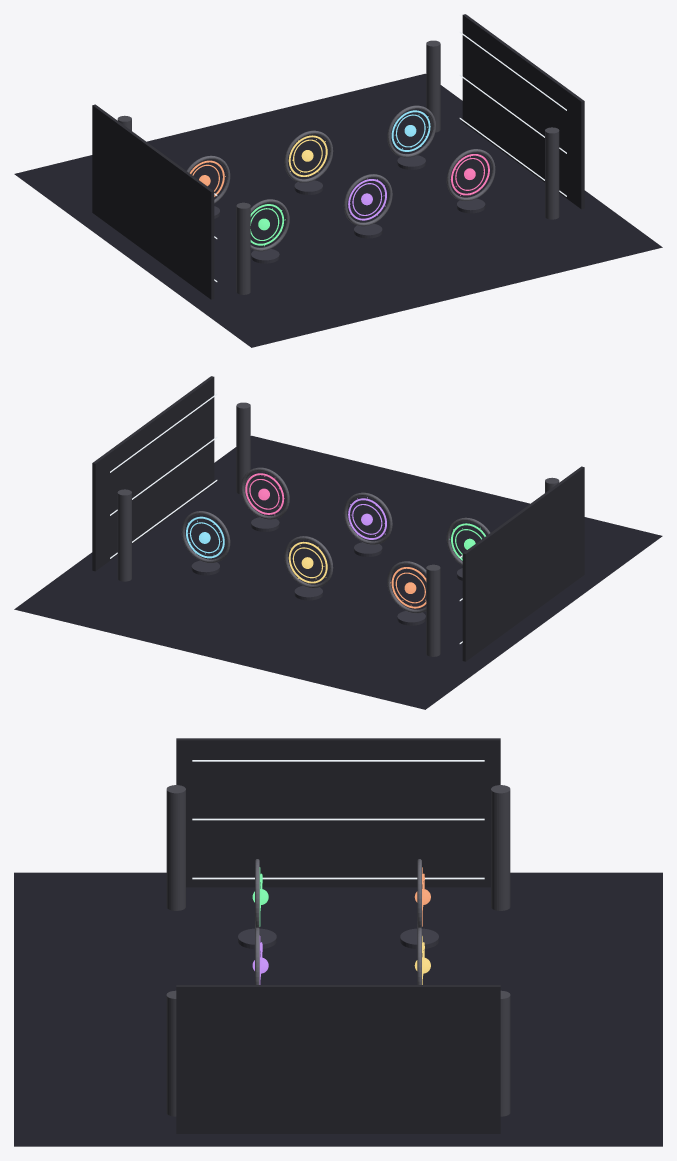
Rendered from ProjectsSpacePortals.glb.
3 renders of one model, top to bottom at view 1: azimuth 30°, elevation 25°; view 2: azimuth 150°, elevation 25°; view 3: azimuth 270°, elevation 25°, orthographic. The views are drawn at different scales.
Visible parts, largest first — view 1: Portal_GalleryFloor, Portal_Wall_Left, Portal_Wall_Right, Portal_Column_4, Portal_Column_3, Portal_Column_2, Portal_Taverne_Frame, Portal_Stellar_Frame, Portal_AssistantIA_Frame, Portal_Minecraft_Frame; view 2: Portal_GalleryFloor, Portal_Wall_Left, Portal_Wall_Right, Portal_Column_2, Portal_Column_1, Portal_Column_4, Portal_Taverne_Frame, Portal_Stellar_Frame, Portal_Minecraft_Frame, Portal_AssistantIA_Frame; view 3: Portal_GalleryFloor, Portal_Wall_Right, Portal_Wall_Left, Portal_Column_1, Portal_Column_3, Portal_Column_2, Portal_Column_4, LightStrip_-17_5, LightStrip_-17_1, Portal_YUMR_Pedestal.
Boxes of the visible parts, <box> form: Portal_GalleryFloor: <box>14,73,662,347</box>; Portal_Wall_Left: <box>92,104,214,299</box>; Portal_Wall_Right: <box>462,14,584,209</box>; Portal_Column_4: <box>545,127,559,219</box>; Portal_Column_3: <box>236,202,250,294</box>; Portal_Column_2: <box>426,40,440,132</box>; Portal_Taverne_Frame: <box>284,130,333,182</box>; Portal_Stellar_Frame: <box>343,174,392,226</box>; Portal_AssistantIA_Frame: <box>387,105,435,157</box>; Portal_Minecraft_Frame: <box>446,149,495,200</box>; Portal_GalleryFloor: <box>14,435,662,709</box>; Portal_Wall_Left: <box>462,466,584,661</box>; Portal_Wall_Right: <box>92,376,214,571</box>; Portal_Column_2: <box>117,489,131,581</box>; Portal_Column_1: <box>426,564,440,656</box>; Portal_Column_4: <box>236,402,250,494</box>; Portal_Taverne_Frame: <box>284,536,333,588</box>; Portal_Stellar_Frame: <box>343,492,392,544</box>; Portal_Minecraft_Frame: <box>241,467,289,519</box>; Portal_AssistantIA_Frame: <box>181,511,230,562</box>; Portal_GalleryFloor: <box>14,872,662,1146</box>; Portal_Wall_Right: <box>176,985,500,1133</box>; Portal_Wall_Left: <box>176,738,500,887</box>; Portal_Column_1: <box>491,785,510,910</box>; Portal_Column_3: <box>166,785,185,910</box>; Portal_Column_2: <box>500,990,510,1116</box>; Portal_Column_4: <box>166,990,176,1116</box>; LightStrip_-17_5: <box>192,818,484,820</box>; LightStrip_-17_1: <box>192,877,484,879</box>; Portal_YUMR_Pedestal: <box>400,928,438,949</box>.
Size of the model in its own units: 40 by 10 by 40.
